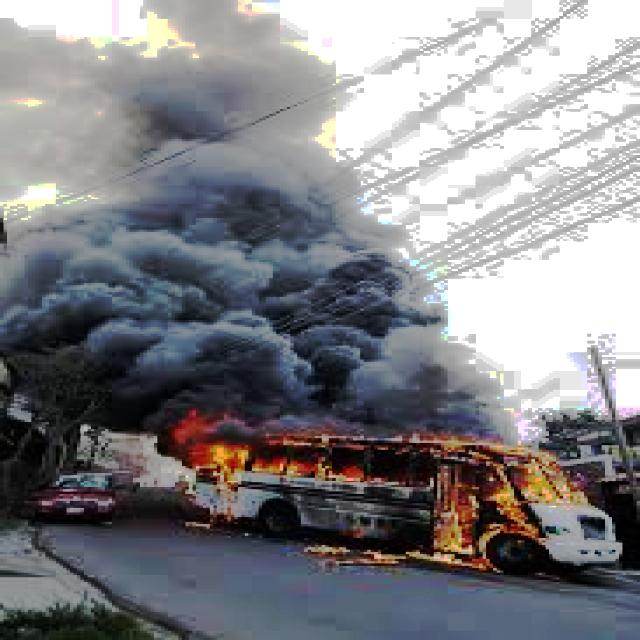api: (361, 432, 599, 583), (162, 398, 340, 535)
